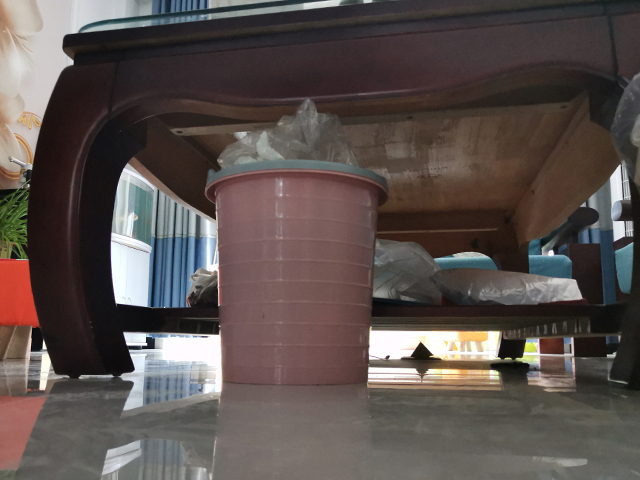table: (23, 1, 640, 389)
trashcan: (202, 156, 393, 387)
